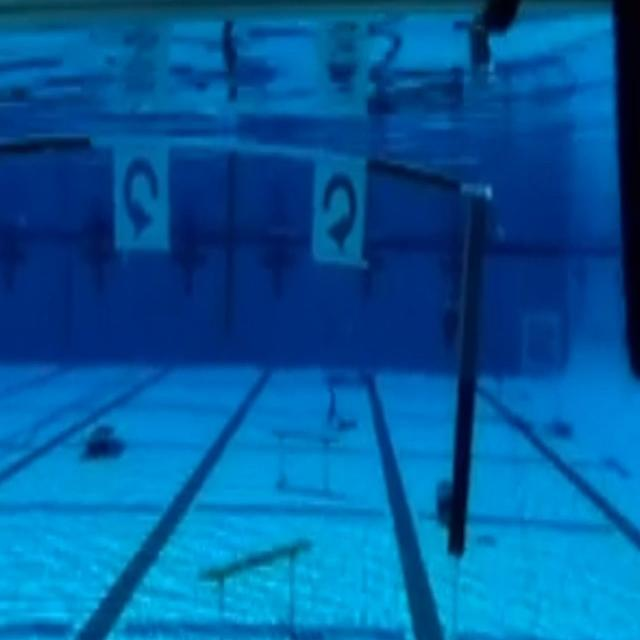Gate: (0, 107, 502, 585)
Path: (198, 528, 322, 629)
